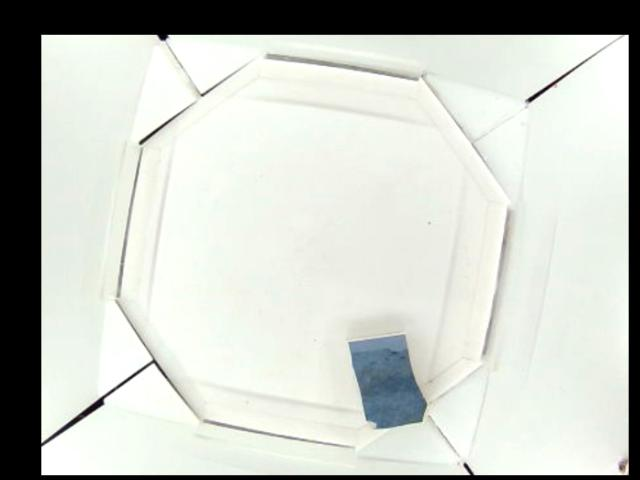China: (346, 332, 428, 427)
